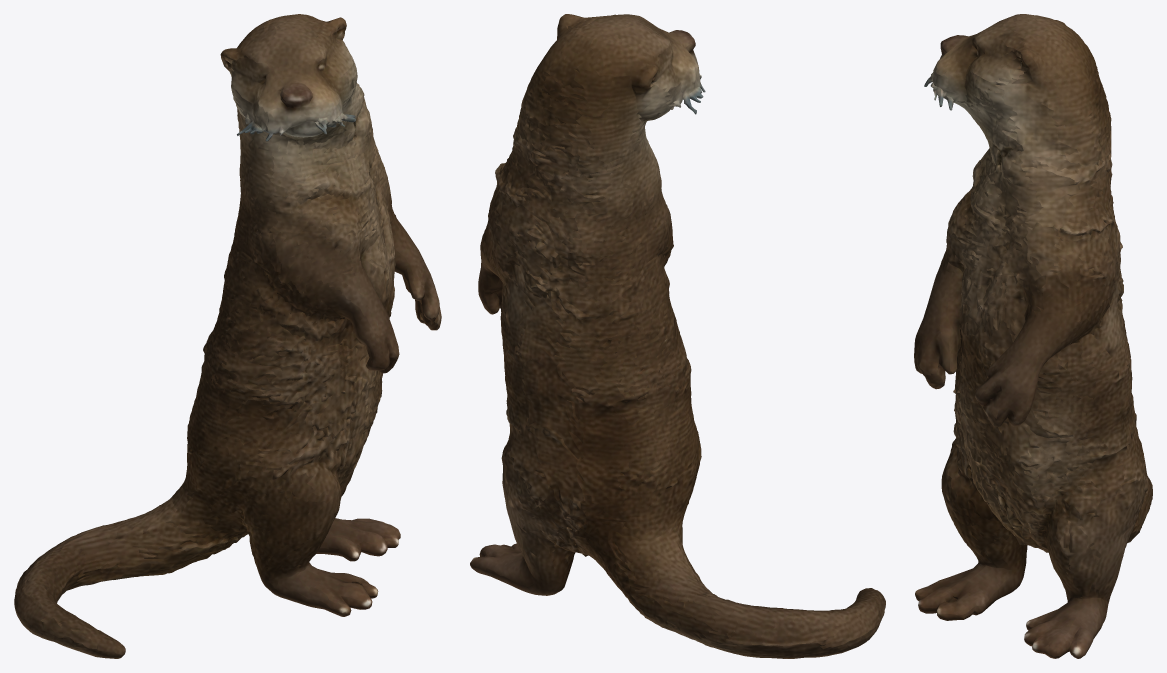
File: eurasian-otter-v21.glb
3 renders of one model, left to right at view 1: azimuth 30°, elevation 25°; view 2: azimuth 150°, elevation 25°; view 3: azimuth 270°, elevation 25°, orthographic. The views are drawn at different scales.
Parts seen in each view (by area): view 1: geometry_0; view 2: geometry_0; view 3: geometry_0.
Part boxes in pixels (x1,y1,x2,y2): geometry_0: [14, 14, 441, 658]; geometry_0: [470, 14, 885, 658]; geometry_0: [914, 14, 1152, 658].
Bounding box in the file's own units: 0.8989 × 1.21 × 0.4501.
1 material, 1 textured.
